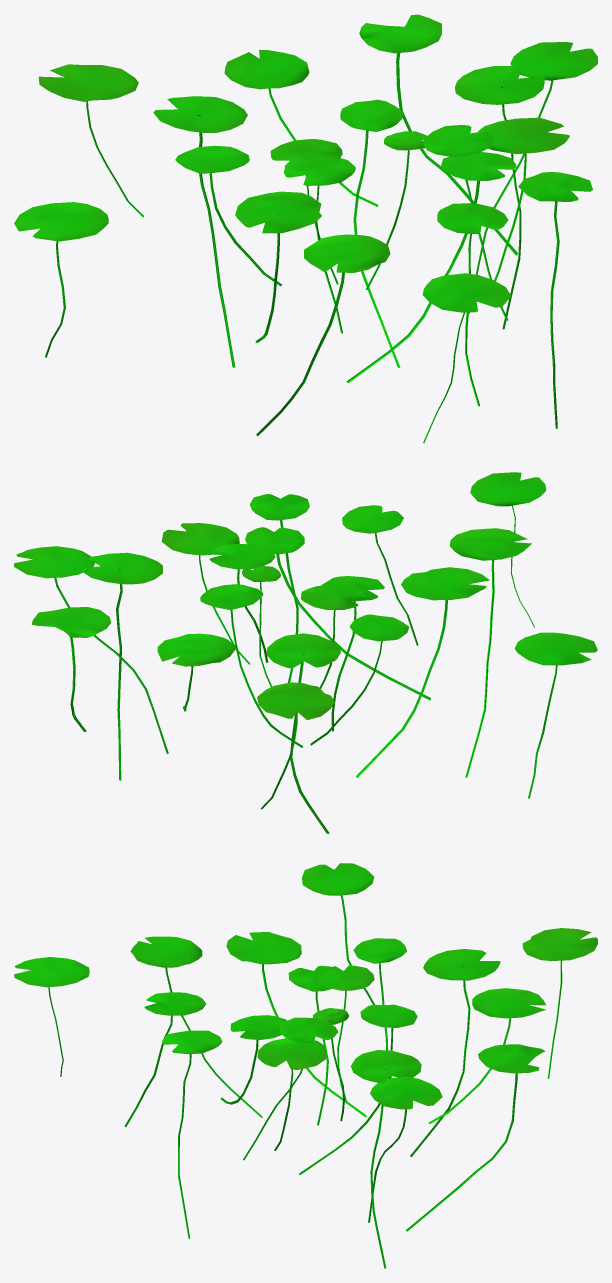
The model's file is uc2jdibia_Var4_LOD0.fbx.
The picture shows the model from 3 angles, top to bottom: view 1: azimuth 30°, elevation 25°; view 2: azimuth 150°, elevation 25°; view 3: azimuth 270°, elevation 25°; orthographic projection. The views are drawn at different scales.
Visible parts, largest first — view 1: _a605_Var4_LOD0; view 2: _a605_Var4_LOD0; view 3: _a605_Var4_LOD0.
Boxes of the visible parts, x1,y1,x2,y2 form: _a605_Var4_LOD0: (14, 14, 597, 442); _a605_Var4_LOD0: (14, 472, 597, 833); _a605_Var4_LOD0: (14, 863, 597, 1268).
Bounding box in the file's own units: 186 × 71.18 × 186.
